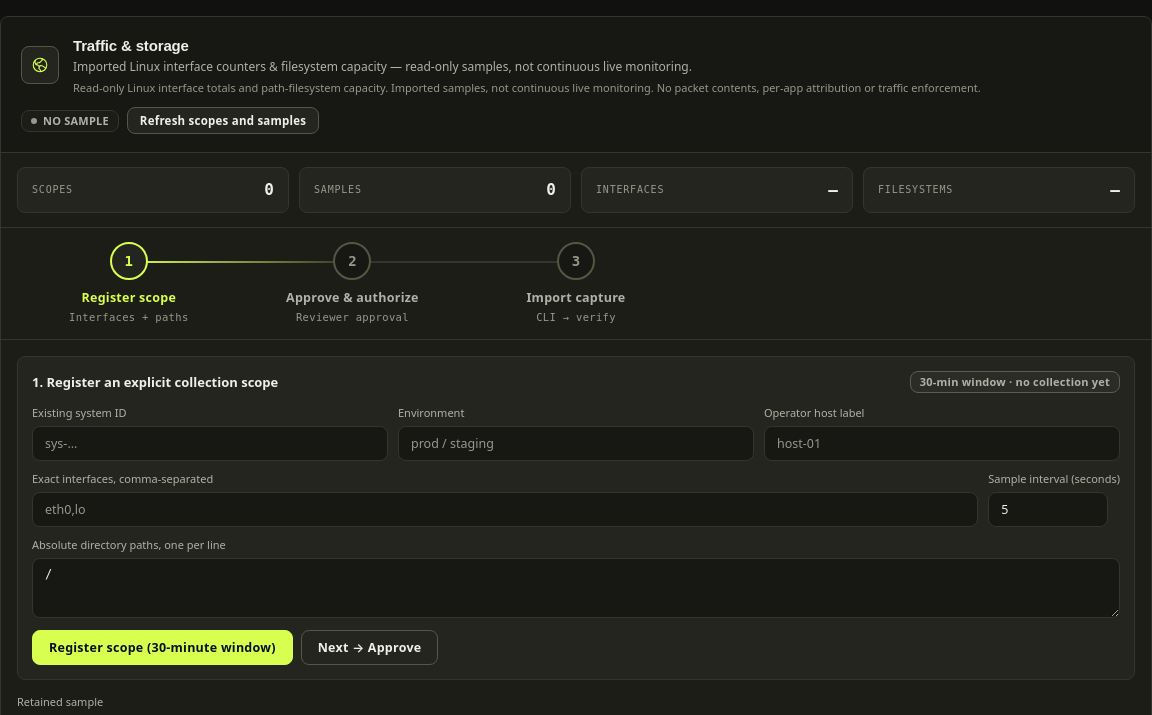
it: marks stale data and disables drafting instead of claiming a current live reading
Step 1. Click the button "Refresh scopes and samples" → (223, 121), box left=127, top=108, right=319, bottom=134
(page scrolled)
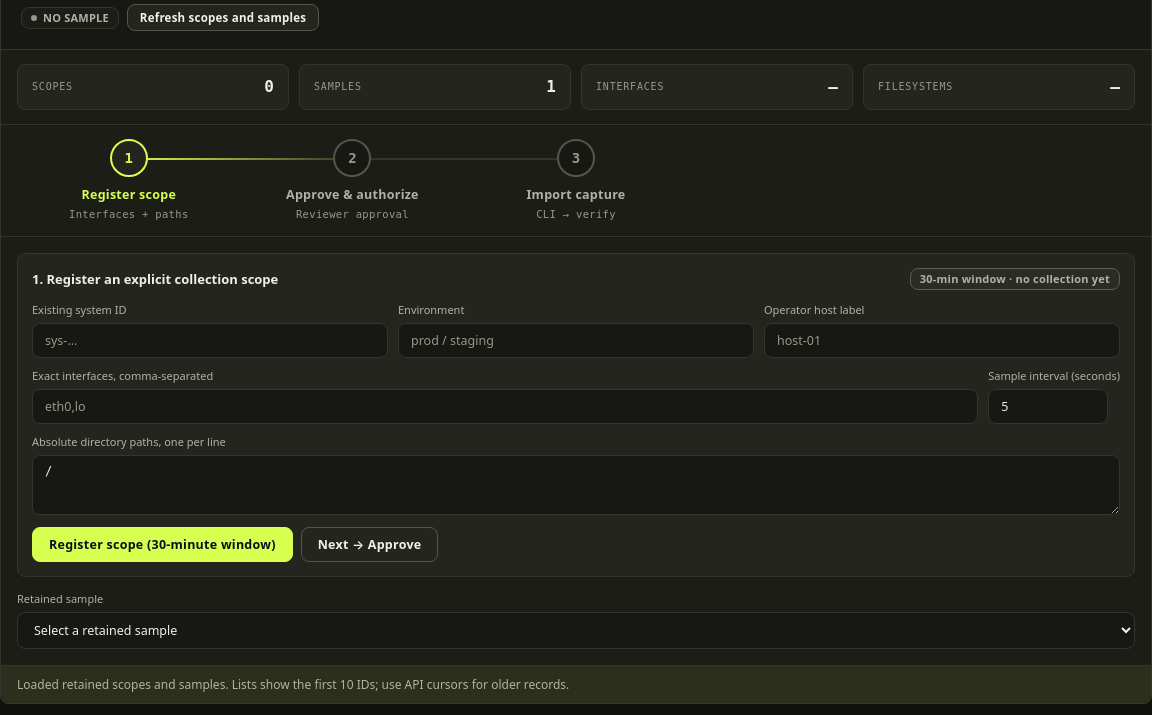
Step 2. Select "synthetic-linux — old" in the dropdown labelled "Retained sample" → (576, 630), box left=17, top=612, right=1135, bottom=649
(page scrolled)
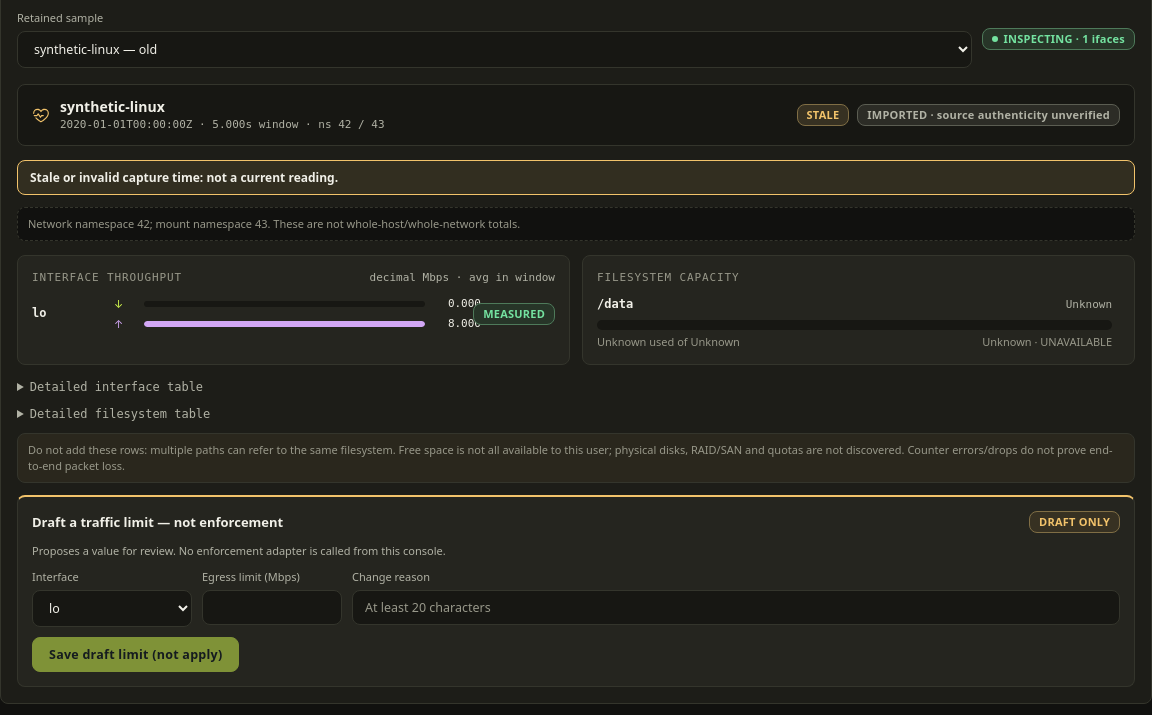
Check: the text "Stale or invalid capture time: not a current reading." is shown, box left=30, top=169, right=338, bottom=186
Check: the button "Save draft limit (not apply)" is disabled, box left=32, top=637, right=239, bottom=672
